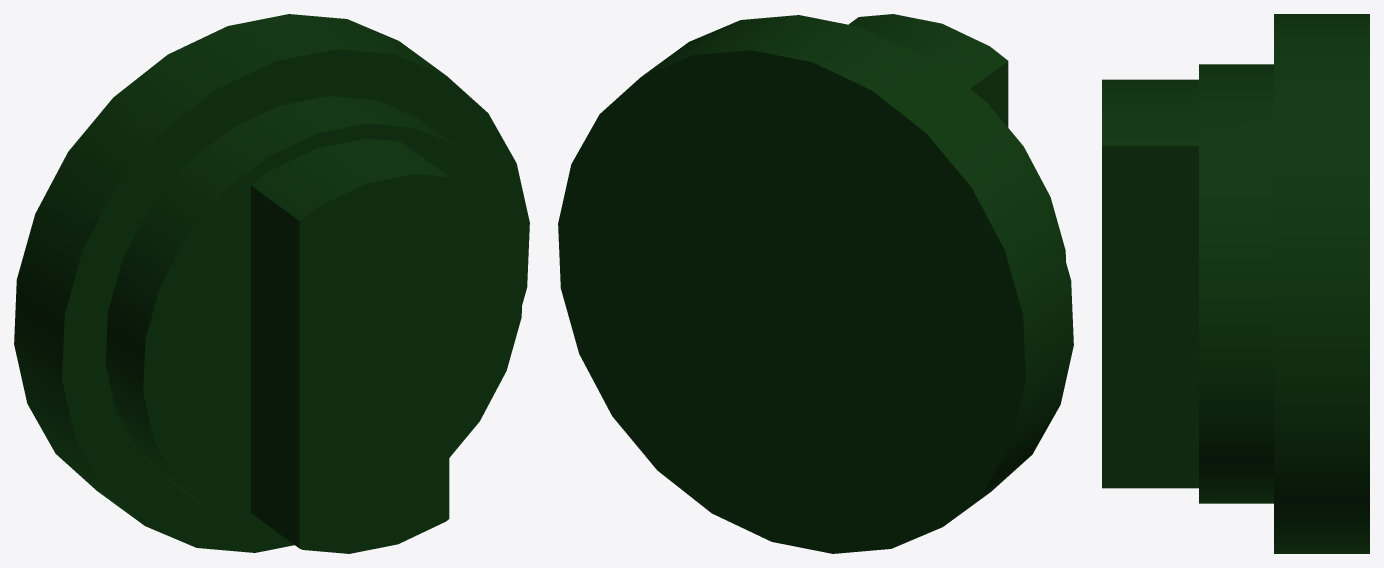
Rendered from original-30.obj.
3 renders of one model, left to right at view 1: azimuth 30°, elevation 25°; view 2: azimuth 150°, elevation 25°; view 3: azimuth 270°, elevation 25°, orthographic.
Parts seen in each view (by area): view 1: Group10/mesh28/mesh28-geometry#mesh28-geometry; view 2: Group10/mesh28/mesh28-geometry#mesh28-geometry; view 3: Group10/mesh28/mesh28-geometry#mesh28-geometry.
Boxes of the visible parts, x1,y1,x2,y2 form: Group10/mesh28/mesh28-geometry#mesh28-geometry: (14,14,529,553); Group10/mesh28/mesh28-geometry#mesh28-geometry: (558,14,1073,553); Group10/mesh28/mesh28-geometry#mesh28-geometry: (1102,14,1369,553).
Bounding box in the file's own units: 0.0865 × 0.0865 × 0.0429.
